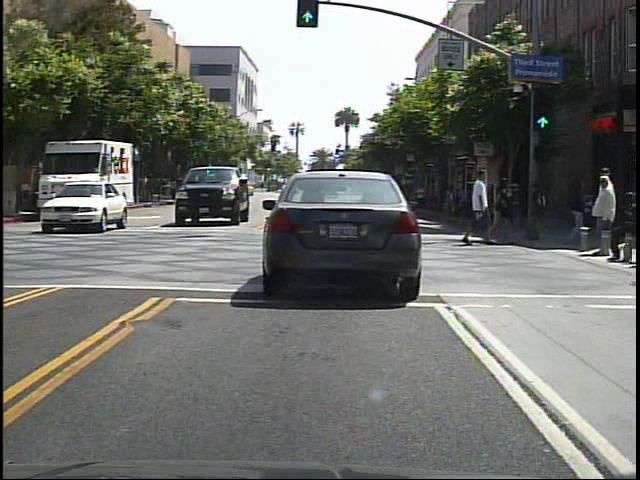person: (463, 164, 500, 250), (595, 167, 621, 261), (563, 174, 590, 246), (529, 175, 551, 241), (413, 181, 431, 215)
